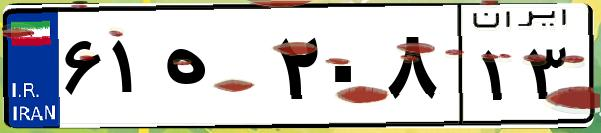0: (330, 28, 385, 110)
1: (475, 38, 525, 113), (110, 28, 158, 98)
2: (270, 28, 330, 110)
3: (525, 38, 570, 115)
6: (57, 26, 110, 100)
8: (385, 28, 445, 110)
ه: (158, 20, 270, 120)
